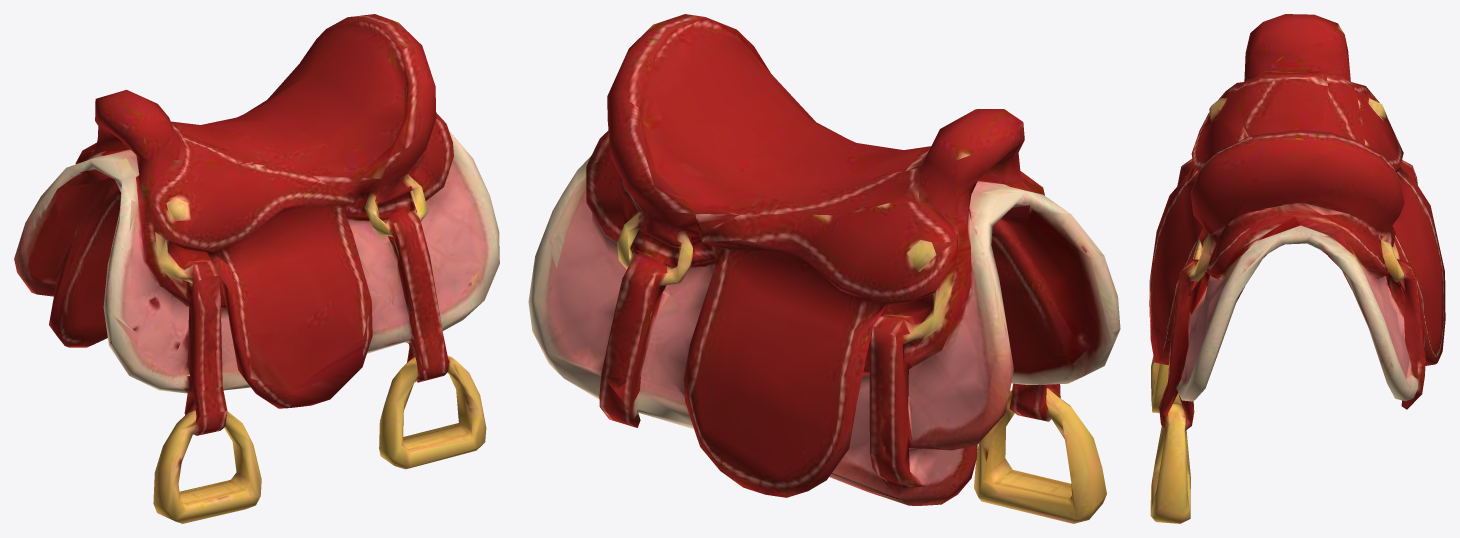
The picture shows the model from 3 angles, left to right: view 1: azimuth 30°, elevation 25°; view 2: azimuth 150°, elevation 25°; view 3: azimuth 270°, elevation 25°; orthographic projection. The views are drawn at different scales.
Parts seen in each view (by area): view 1: saddle-red; view 2: saddle-red; view 3: saddle-red.
Boxes of the visible parts, x1,y1,x2,y2 form: saddle-red: (14, 14, 499, 523); saddle-red: (528, 14, 1120, 523); saddle-red: (1149, 14, 1445, 523).
Size of the model in its own units: 0.3747 by 0.3472 by 0.2442.
Materials: 1 (1 with a texture image).
